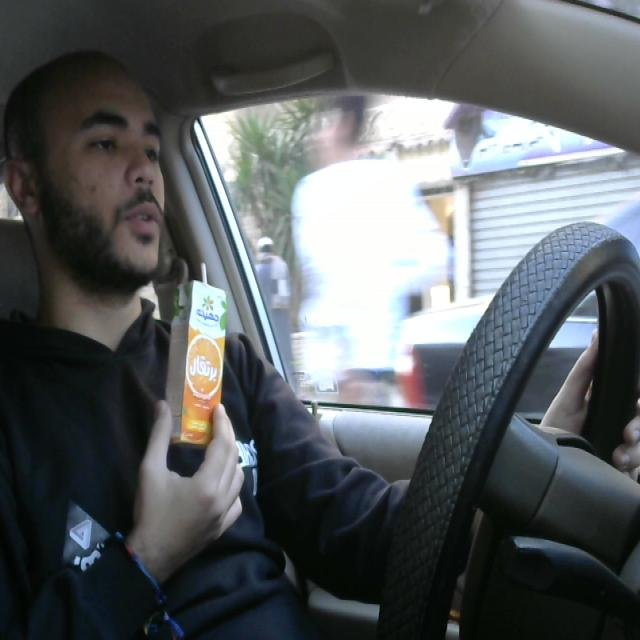drinking: (162, 262, 230, 445)
